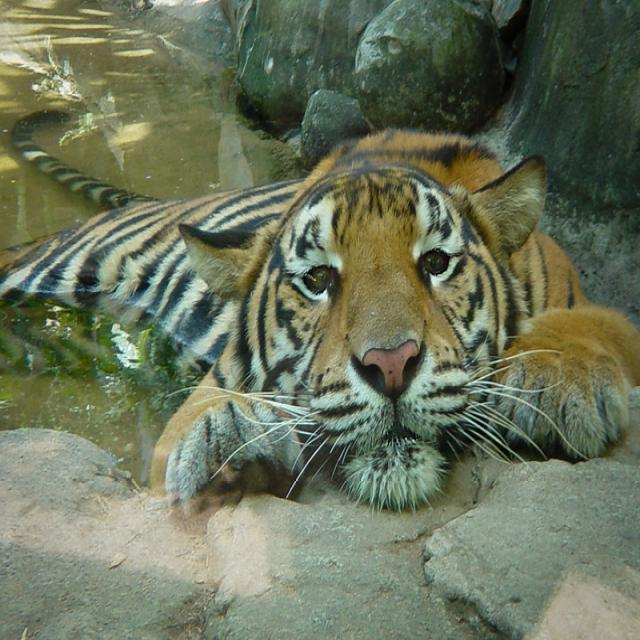Tiger: (3, 104, 637, 505)
